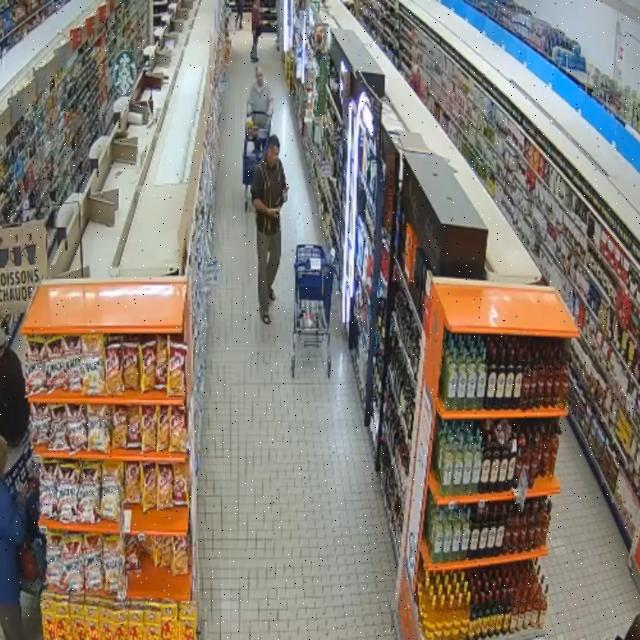article: (274, 194, 284, 210)
bags: (18, 543, 39, 582)
hands: (16, 486, 29, 506), (269, 208, 280, 218), (282, 187, 288, 203)
person: (251, 136, 288, 324), (0, 437, 25, 639), (0, 331, 29, 447), (247, 66, 273, 128)
